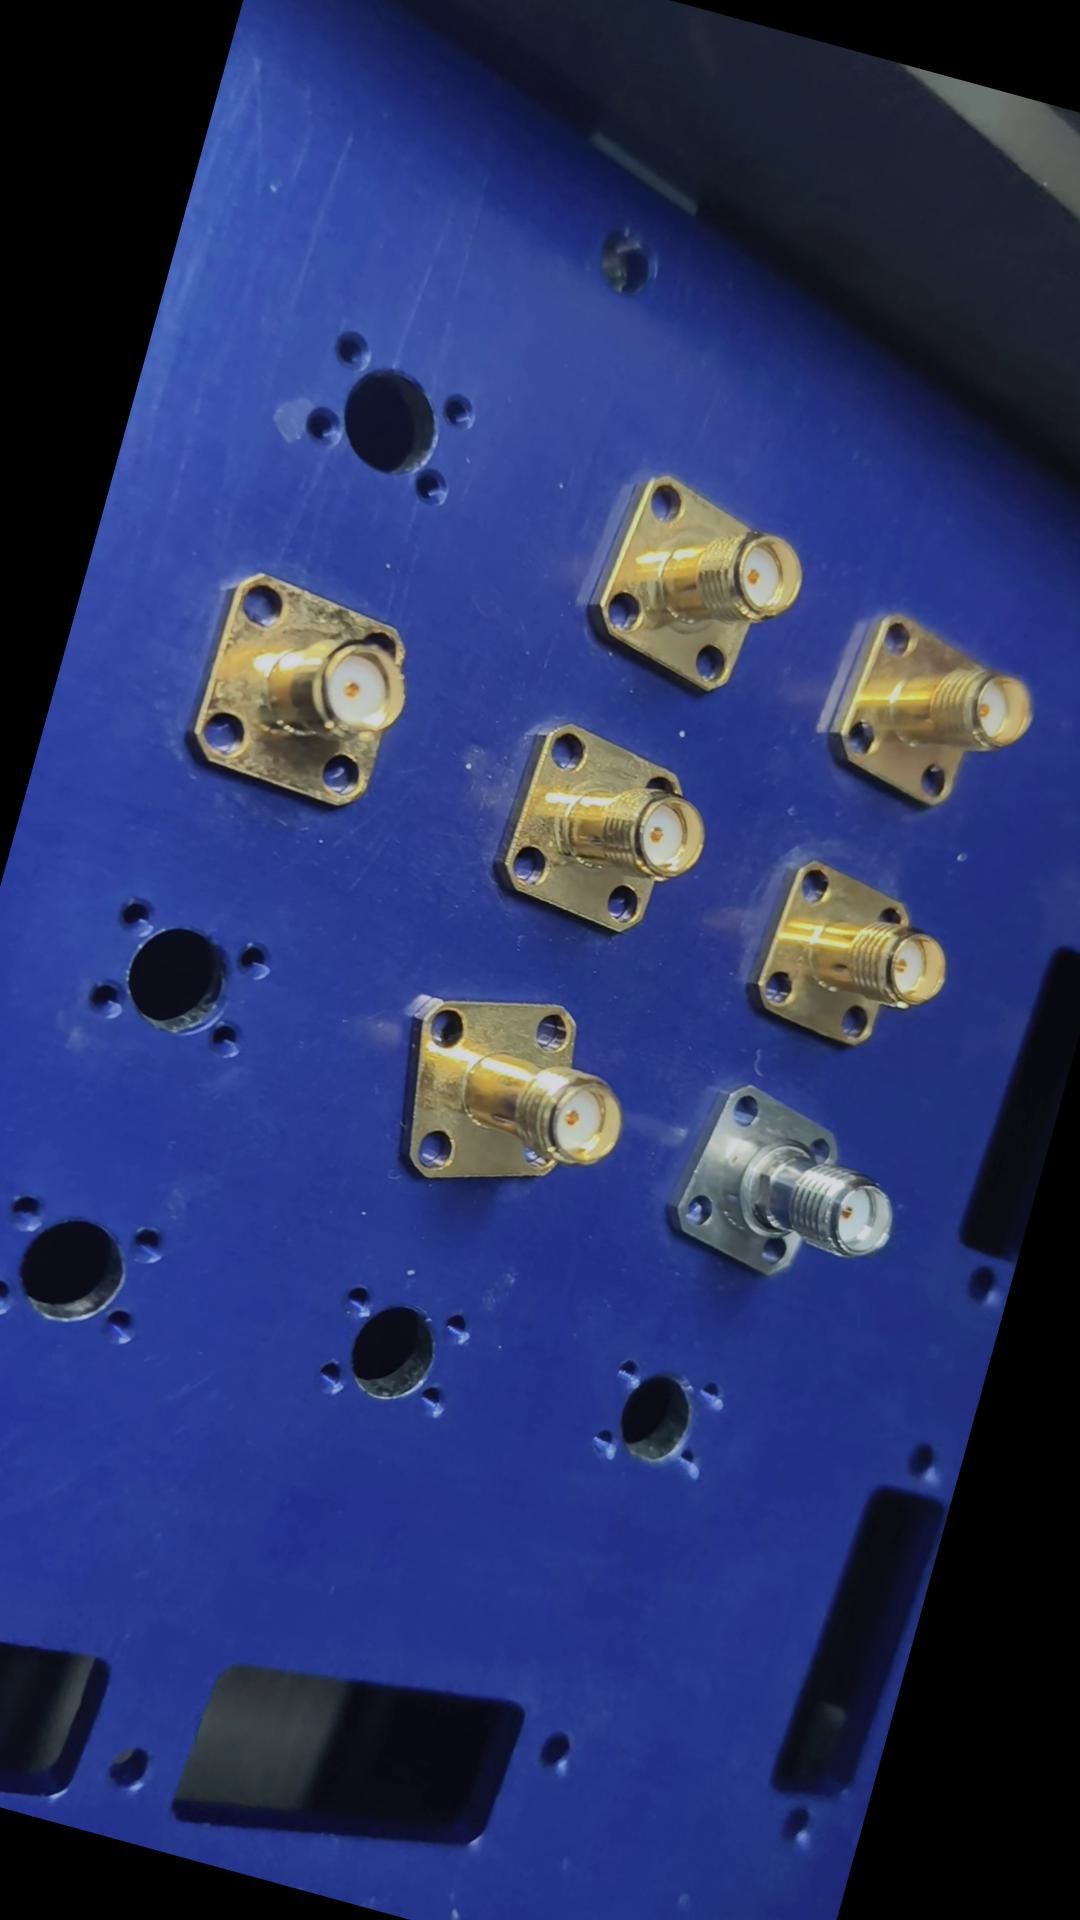SMA: (368, 965, 649, 1225), (171, 563, 431, 822), (650, 1068, 920, 1308), (472, 709, 731, 953), (564, 458, 814, 709), (808, 604, 1050, 829), (735, 845, 968, 1069)
